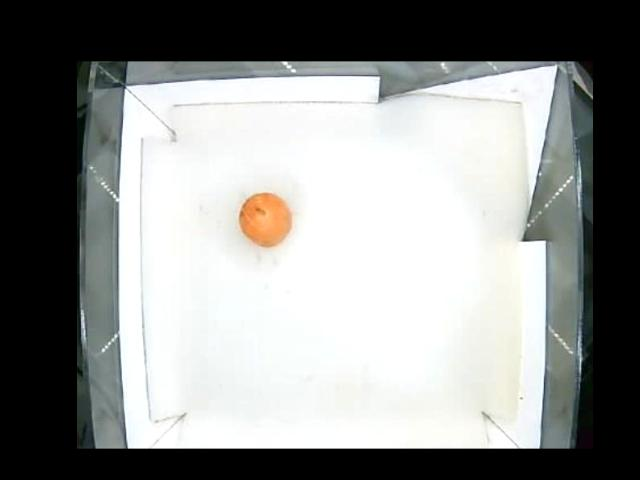Carrot: (238, 190, 292, 246)
